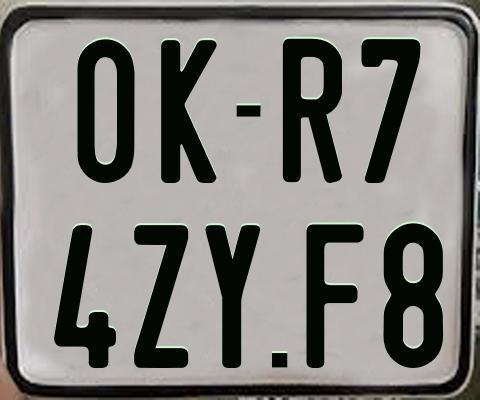0: (75, 36, 134, 186)
4: (52, 224, 115, 372)
7: (358, 39, 420, 185)
8: (381, 223, 446, 373)
F: (304, 223, 364, 371)
K: (161, 40, 218, 184)
R: (282, 39, 346, 188)
Y: (203, 222, 260, 370)
Z: (134, 224, 189, 370)
